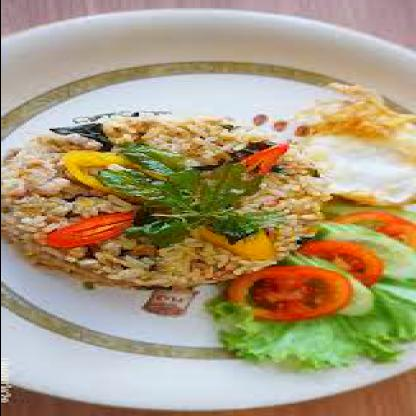Basil Rice: (2, 58, 415, 382)
